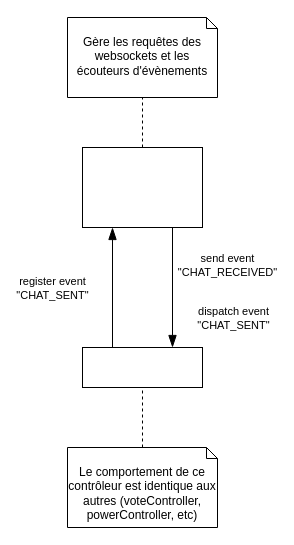
This 294x545 diagram has some shape labels left out. Each missing label, with the centre of its shape:
"chatController" goes at (142,367).
"EventManager" goes at (142,187).
